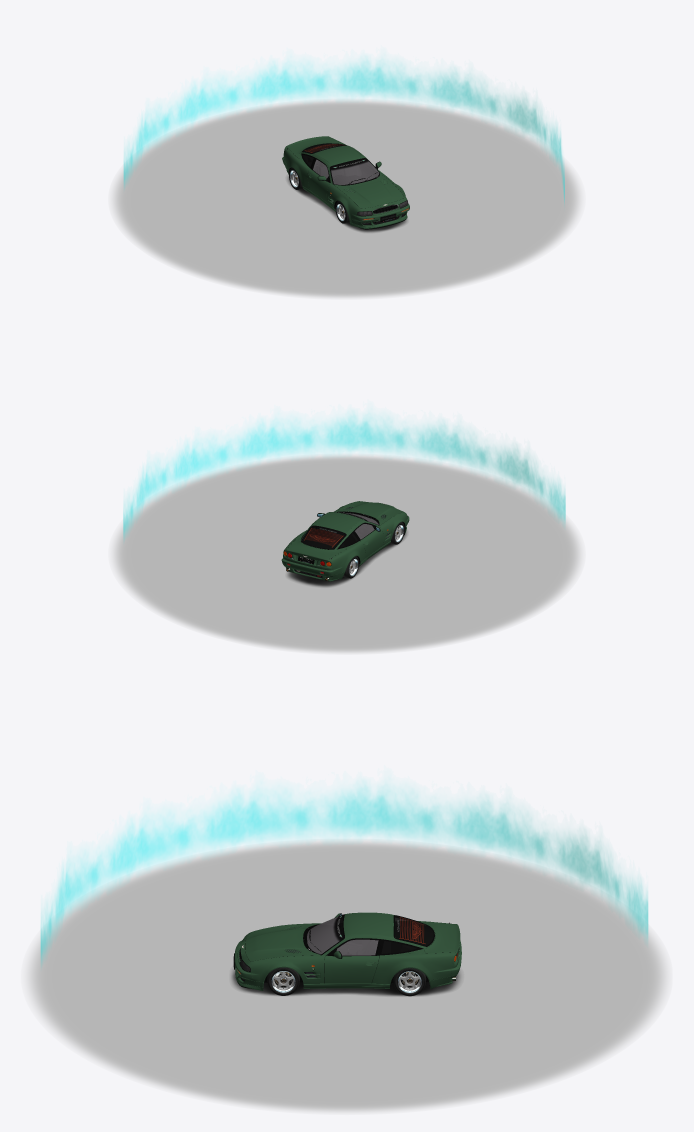
File: auto.glb
The picture shows the model from 3 angles, top to bottom: view 1: azimuth 30°, elevation 25°; view 2: azimuth 150°, elevation 25°; view 3: azimuth 270°, elevation 25°; orthographic projection. The views are drawn at different scales.
Visible parts, largest first — view 1: Aston Martin V8 Vantage V600 Limited Edition 1998 by Alex.Ka; view 2: Aston Martin V8 Vantage V600 Limited Edition 1998 by Alex.Ka; view 3: Aston Martin V8 Vantage V600 Limited Edition 1998 by Alex.Ka.
Part boxes in pixels (<box>): Aston Martin V8 Vantage V600 Limited Edition 1998 by Alex.Ka: <box>109,59,583,298</box>; Aston Martin V8 Vantage V600 Limited Edition 1998 by Alex.Ka: <box>110,414,583,653</box>; Aston Martin V8 Vantage V600 Limited Edition 1998 by Alex.Ka: <box>24,785,670,1113</box>.
Size of the model in its own units: 15.58 by 3.23 by 15.53.
63 materials, 52 textured.
